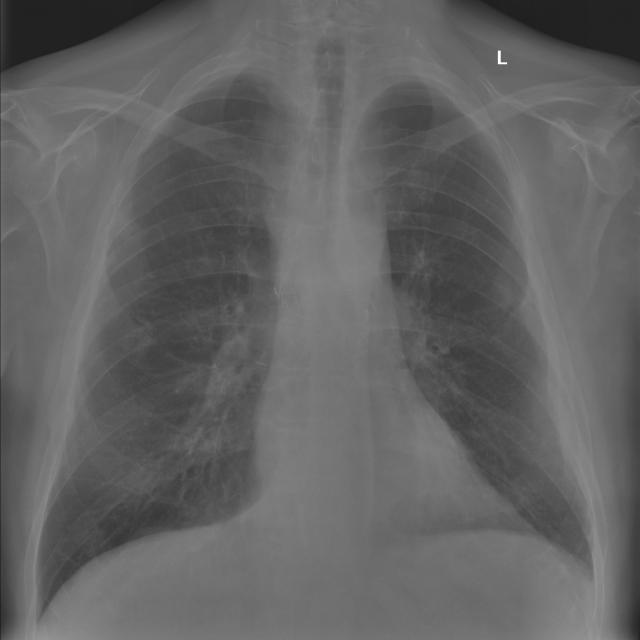abnormalities: (178, 309, 265, 482), (427, 341, 444, 356)
diaphragm: (43, 525, 592, 640)
heart: (252, 156, 491, 552)
left_lobe: (364, 68, 599, 585)
right_lobe: (34, 60, 306, 627)
